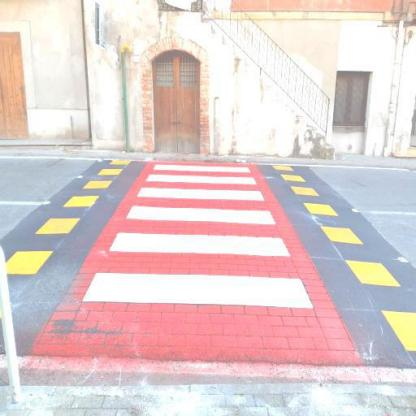crosswalk: (79, 230, 316, 314), (124, 188, 280, 225)
